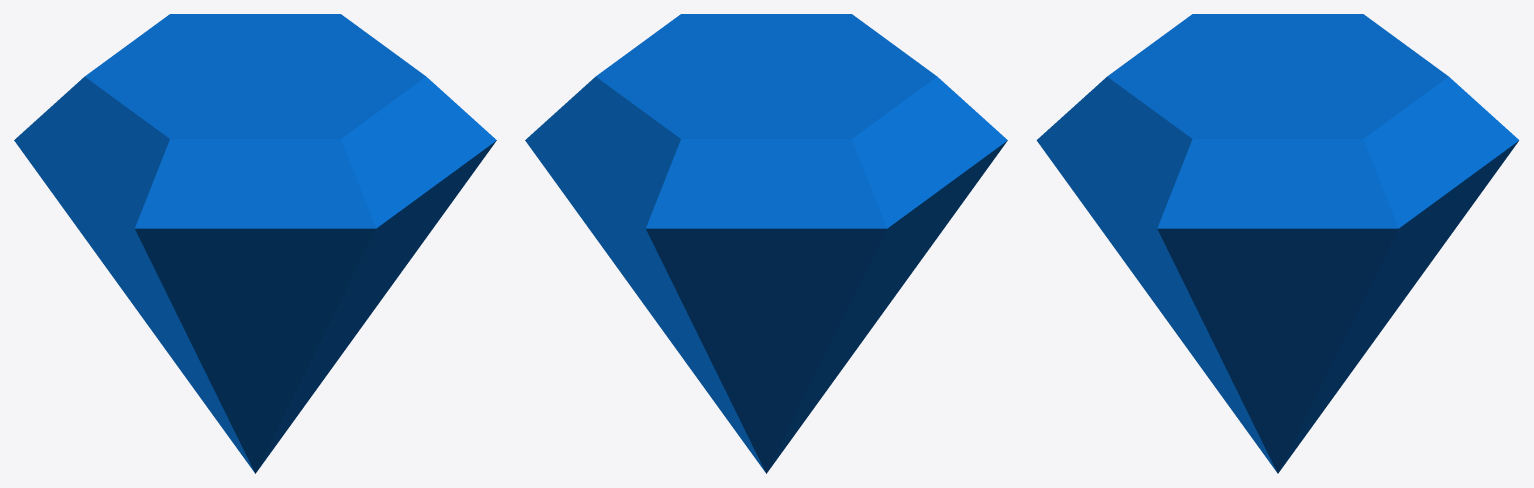
File: diamond.obj
The picture shows the model from 3 angles, left to right: view 1: azimuth 30°, elevation 25°; view 2: azimuth 150°, elevation 25°; view 3: azimuth 270°, elevation 25°; orthographic projection.
Visible parts, largest first — view 1: diamond; view 2: diamond; view 3: diamond.
Part boxes in pixels (left/top/right/bottom): diamond: left=14, top=14, right=496, bottom=473; diamond: left=525, top=14, right=1007, bottom=473; diamond: left=1036, top=14, right=1519, bottom=473.
Bounding box in the file's own units: 1.73 × 1.82 × 2.
